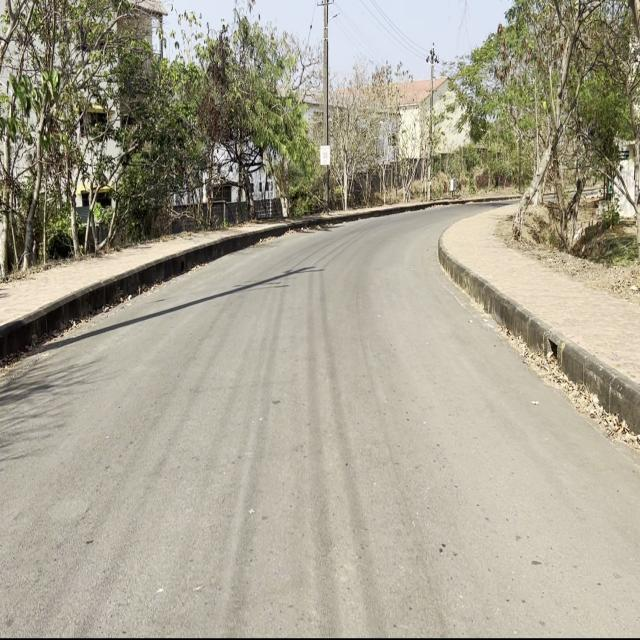Road: (2, 210, 637, 632)
